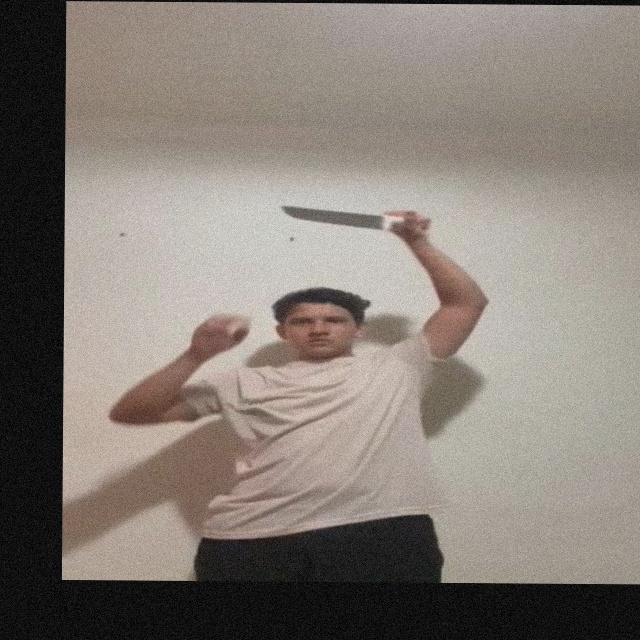Sharp-Object: (277, 203, 388, 229)
